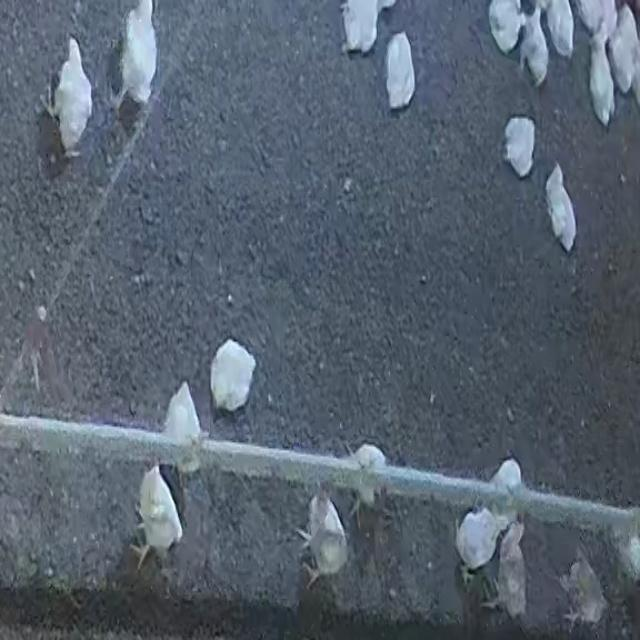chicken: (130, 463, 183, 569), (112, 2, 158, 123), (48, 35, 93, 153), (294, 491, 348, 588), (557, 549, 609, 628), (162, 382, 206, 472), (455, 506, 503, 582), (494, 519, 528, 622), (210, 339, 257, 412), (348, 443, 388, 516), (339, 1, 394, 54), (608, 7, 639, 100), (545, 164, 576, 253), (588, 31, 616, 125), (518, 7, 548, 87), (488, 458, 524, 524), (386, 33, 416, 109), (502, 115, 536, 177), (487, 0, 525, 55), (542, 0, 576, 57), (572, 0, 616, 43), (616, 527, 640, 586)
